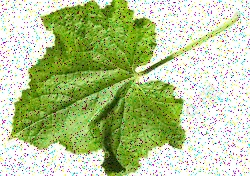cucumber_plant: (13, 1, 241, 176)
